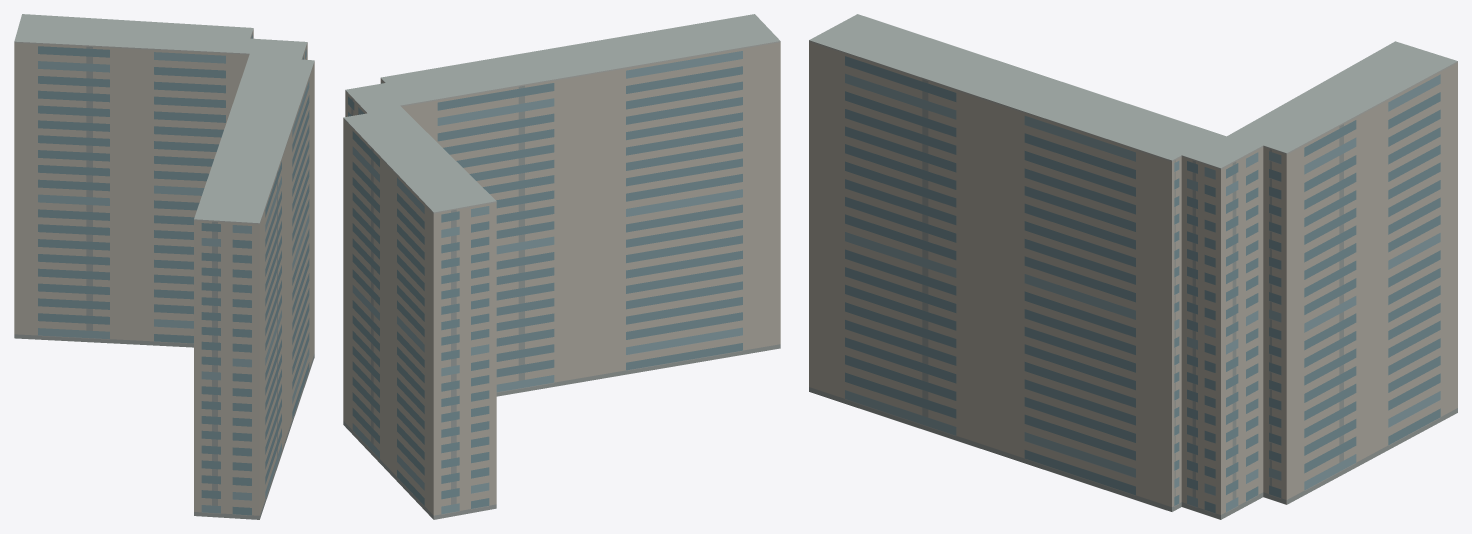
File: residential-cddb0ba4-3151-477c-a6f7-e8615aa6cb94.glb
The picture shows the model from 3 angles, left to right: view 1: azimuth 30°, elevation 25°; view 2: azimuth 150°, elevation 25°; view 3: azimuth 270°, elevation 25°; orthographic projection. The views are drawn at different scales.
Visible parts, largest first — view 1: residential-cddb0ba4-3151-477c-a6f7-e8615aa6cb94.tmp; view 2: residential-cddb0ba4-3151-477c-a6f7-e8615aa6cb94.tmp; view 3: residential-cddb0ba4-3151-477c-a6f7-e8615aa6cb94.tmp.
Boxes of the visible parts, x1,y1,x2,y2 form: residential-cddb0ba4-3151-477c-a6f7-e8615aa6cb94.tmp: (14, 14, 314, 519); residential-cddb0ba4-3151-477c-a6f7-e8615aa6cb94.tmp: (343, 14, 780, 519); residential-cddb0ba4-3151-477c-a6f7-e8615aa6cb94.tmp: (809, 14, 1457, 519).
Size of the model in its own units: 57.42 by 61 by 102.
